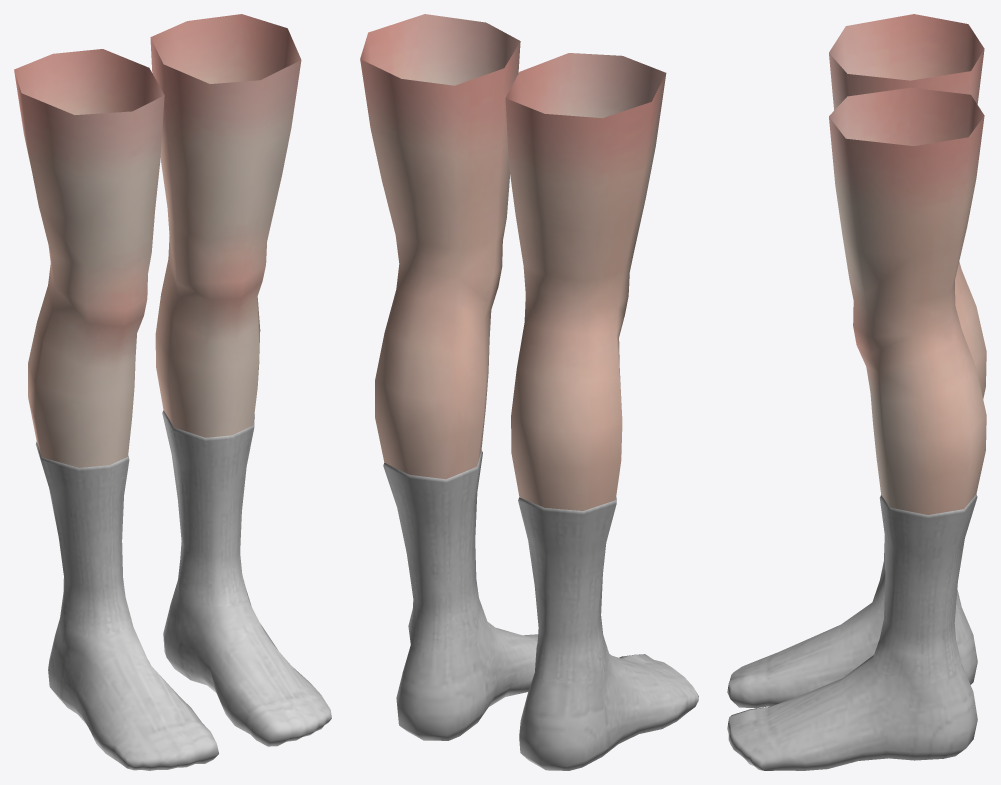
Rendered from p0_lgw1004_00_lgw00.gltf.
3 views of the same model, side by side, from view 1: azimuth 30°, elevation 25°; view 2: azimuth 150°, elevation 25°; view 3: azimuth 270°, elevation 25° (orthographic). The views are drawn at different scales.
Parts seen in each view (by area): view 1: lgw00_legs01_mesh_shape:legs_skin, lgw00_legs02_mesh_shape:legs_skin, lgw00_legs00_mesh_shape:legs, lgw00_legs01_mesh_shape:legs; view 2: lgw00_legs01_mesh_shape:legs_skin, lgw00_legs02_mesh_shape:legs_skin, lgw00_legs00_mesh_shape:legs, lgw00_legs01_mesh_shape:legs; view 3: lgw00_legs00_mesh_shape:legs, lgw00_legs02_mesh_shape:legs_skin, lgw00_legs01_mesh_shape:legs_skin, lgw00_legs01_mesh_shape:legs.
Boxes of the visible parts, bbox=[...] form: lgw00_legs01_mesh_shape:legs_skin: bbox=[28, 156, 281, 467]; lgw00_legs02_mesh_shape:legs_skin: bbox=[14, 14, 301, 224]; lgw00_legs00_mesh_shape:legs: bbox=[48, 500, 331, 770]; lgw00_legs01_mesh_shape:legs: bbox=[35, 410, 254, 549]; lgw00_legs01_mesh_shape:legs_skin: bbox=[375, 171, 645, 510]; lgw00_legs02_mesh_shape:legs_skin: bbox=[360, 14, 666, 231]; lgw00_legs00_mesh_shape:legs: bbox=[396, 541, 698, 770]; lgw00_legs01_mesh_shape:legs: bbox=[383, 450, 616, 594]; lgw00_legs00_mesh_shape:legs: bbox=[727, 536, 977, 770]; lgw00_legs02_mesh_shape:legs_skin: bbox=[829, 14, 984, 256]; lgw00_legs01_mesh_shape:legs_skin: bbox=[842, 228, 986, 514]; lgw00_legs01_mesh_shape:legs: bbox=[879, 494, 977, 596].
Size of what is drawn, in the model's own units: 0.2758 by 0.6251 by 0.2287.
2 materials, 2 textured.
